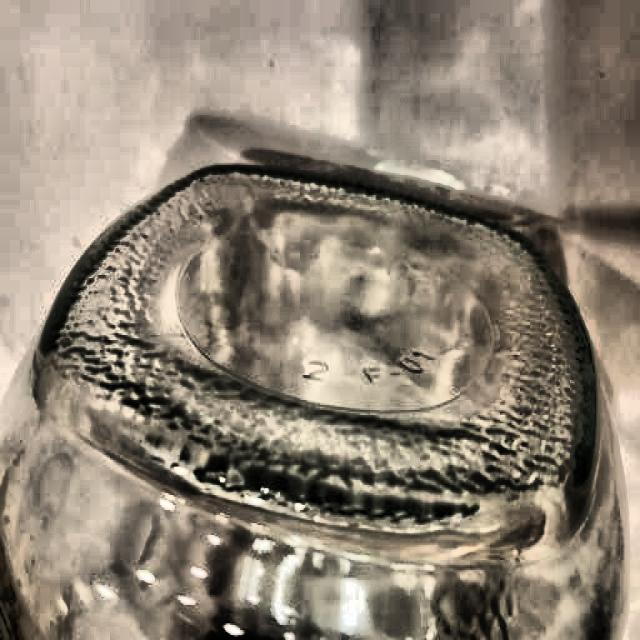glass: (32, 157, 640, 638)
